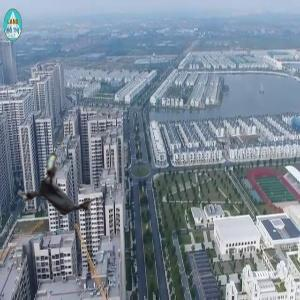drone: (17, 147, 107, 237)
